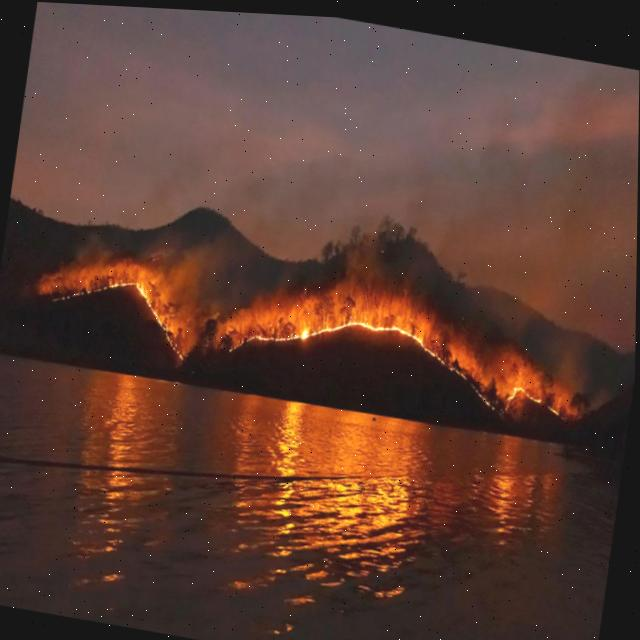fire: (41, 253, 602, 424)
smoke: (435, 57, 640, 337)
